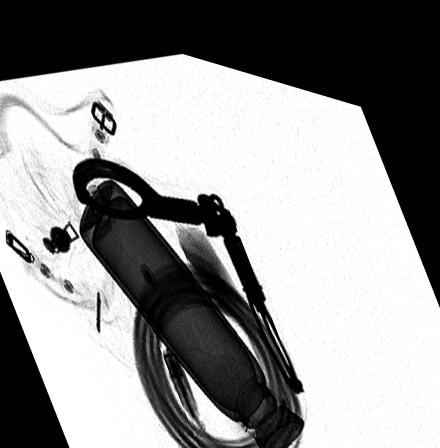HandCuffs: (72, 152, 305, 375)
